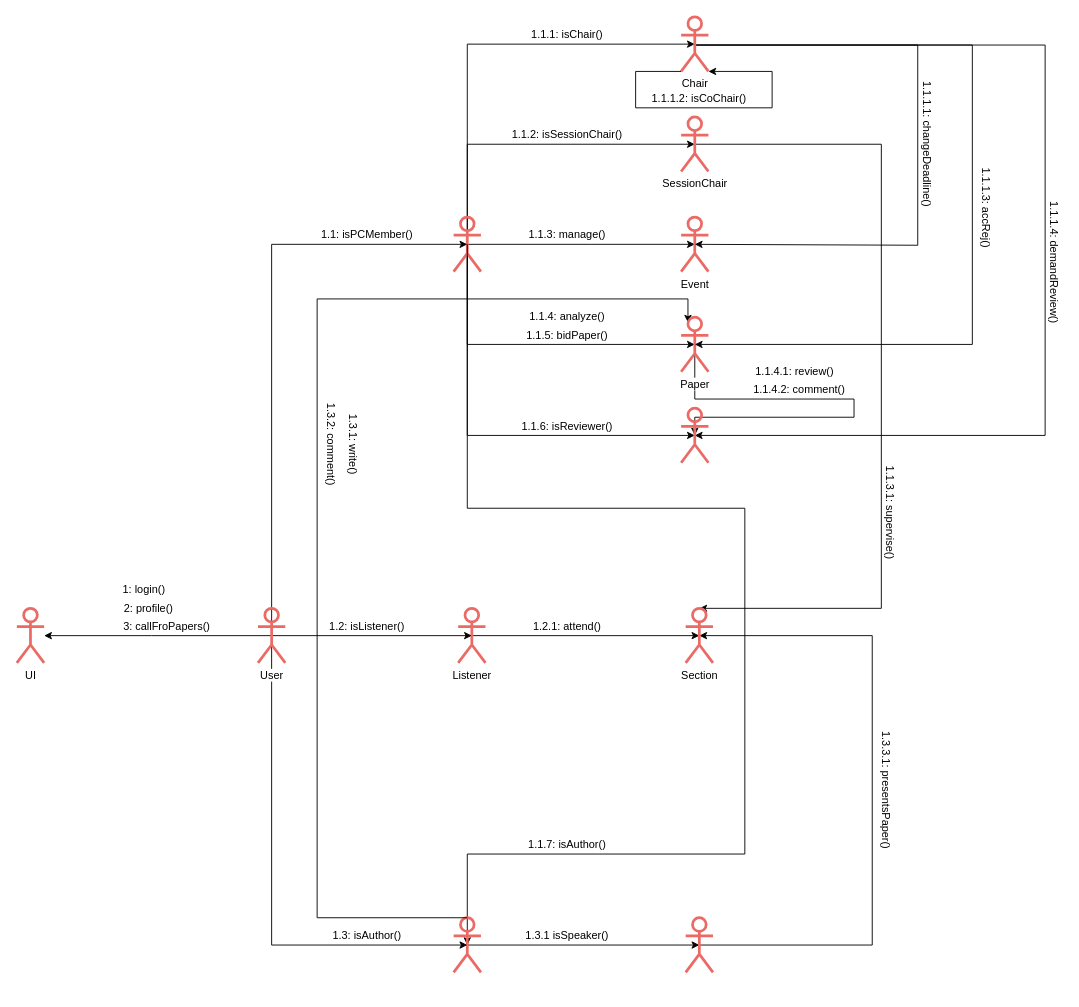
The diagram is 1079 pixels wide and 1007 high, and some of its shapes have lost their labels. The centre of each missing label's shape, as x and y in pixels:
"Author" belongs at point (467, 944).
"PCMember" belongs at point (467, 244).
"Reviewer" belongs at point (694, 435).
"Speaker" belongs at point (699, 944).
